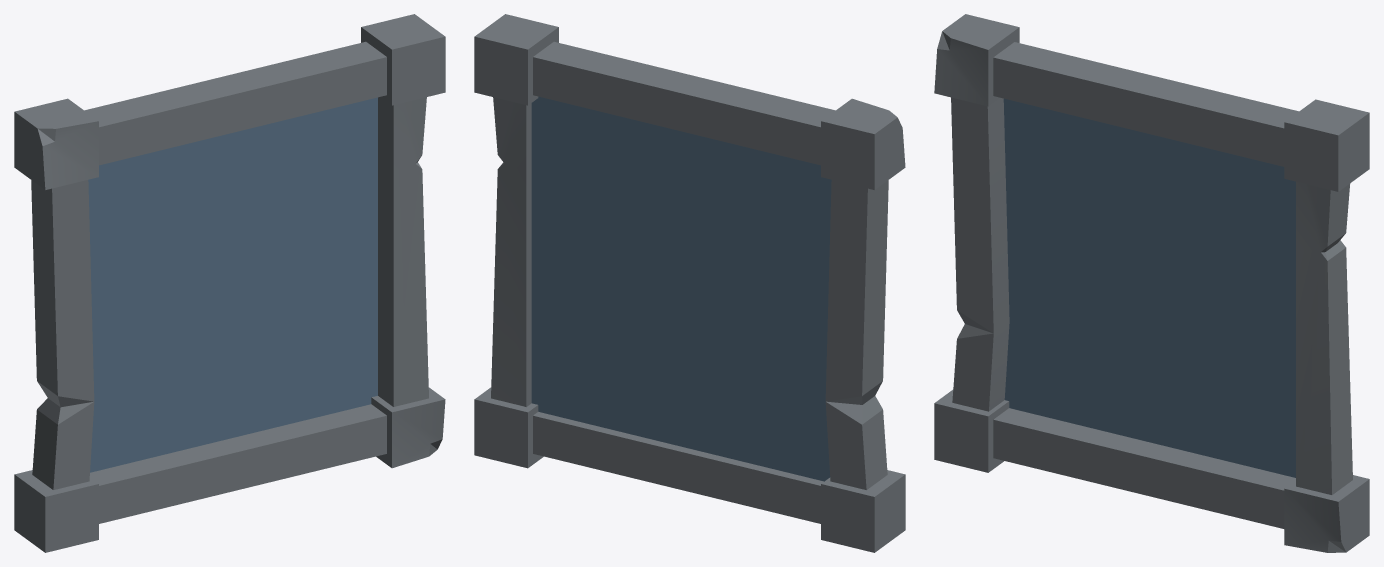
File: Mould_NoFrontInnerFace.fbx
3 views of the same model, side by side, from view 1: azimuth 30°, elevation 25°; view 2: azimuth 150°, elevation 25°; view 3: azimuth 330°, elevation 25° (orthographic).
Visible parts, largest first — view 1: Mold; view 2: Mold; view 3: Mold.
Boxes of the visible parts, <box> form: Mold: <box>14,14,445,552</box>; Mold: <box>474,14,905,552</box>; Mold: <box>934,14,1369,552</box>.
Bounding box in the file's own units: 424 × 424 × 56.68.
